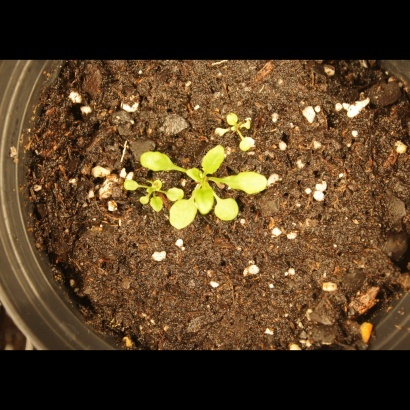leaf: (218, 169, 273, 199), (139, 149, 186, 178), (201, 138, 228, 180), (169, 199, 199, 231), (193, 183, 219, 218), (214, 196, 242, 224), (119, 172, 142, 195), (164, 180, 187, 203), (147, 197, 170, 220), (184, 164, 207, 187)
